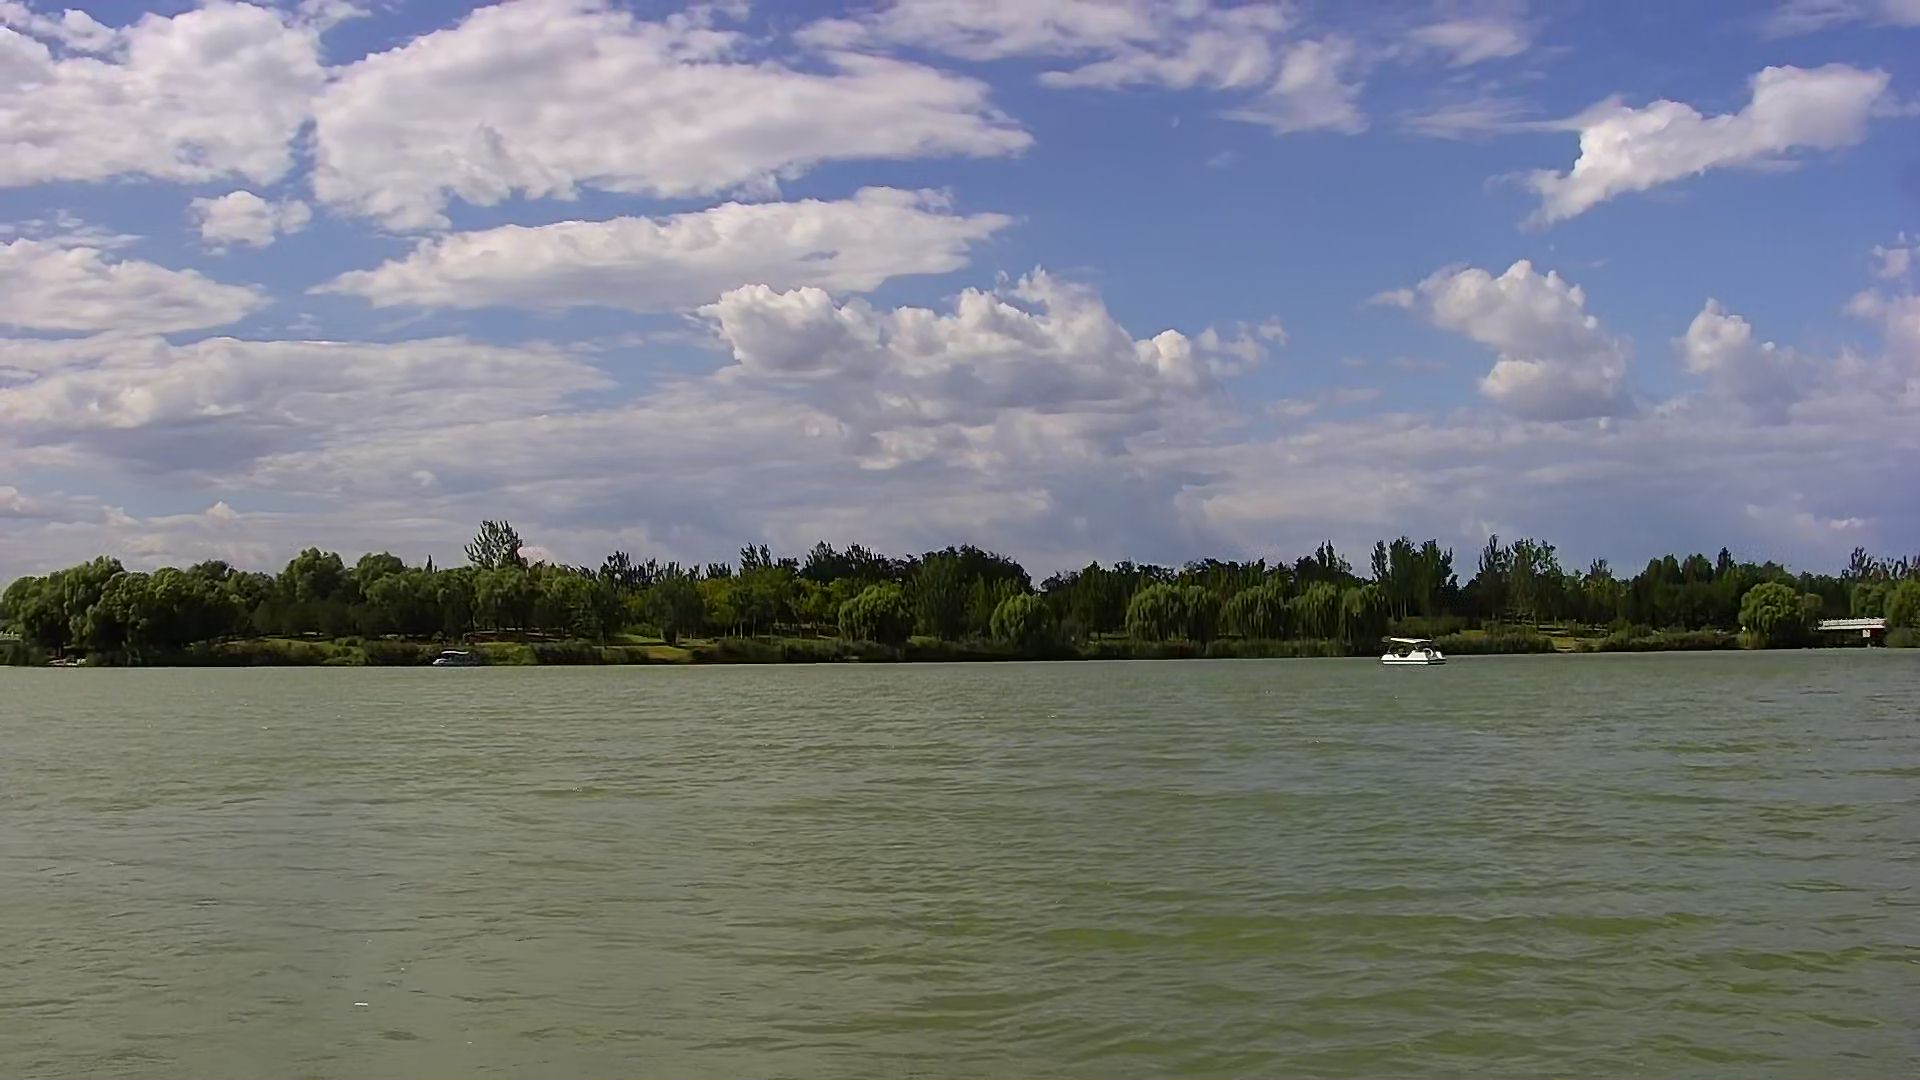boat: (1371, 636, 1451, 667), (429, 640, 487, 669)
